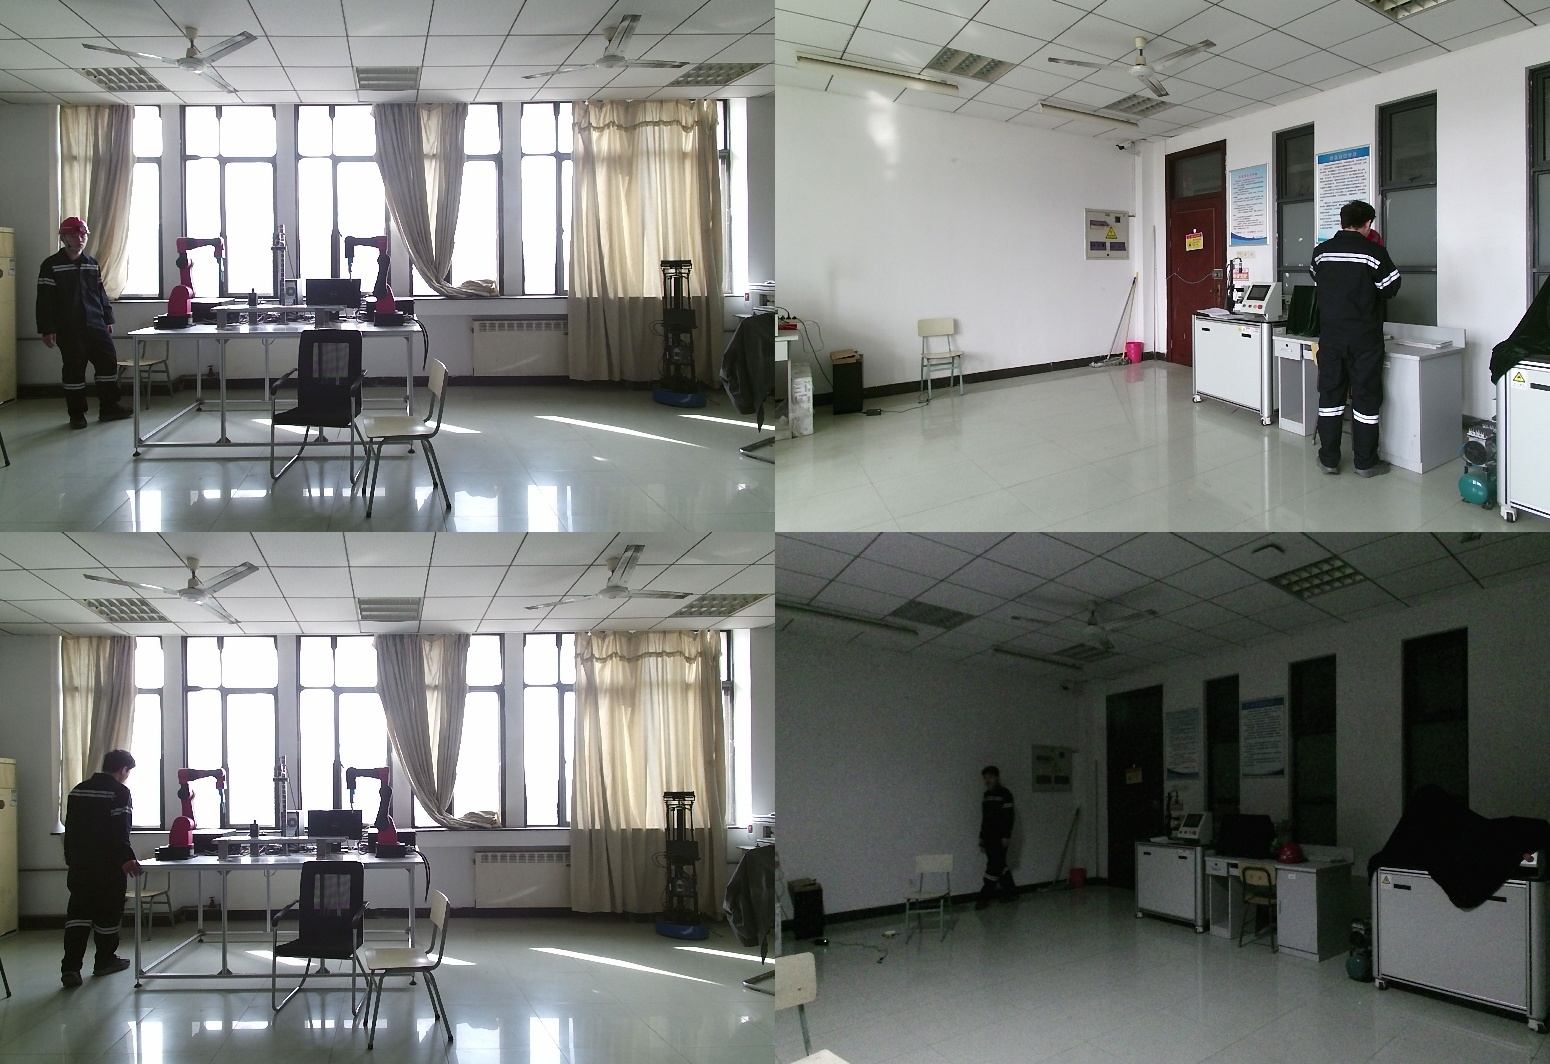person: (1305, 203, 1426, 474), (31, 219, 134, 429), (56, 749, 143, 985), (976, 768, 1022, 910)
